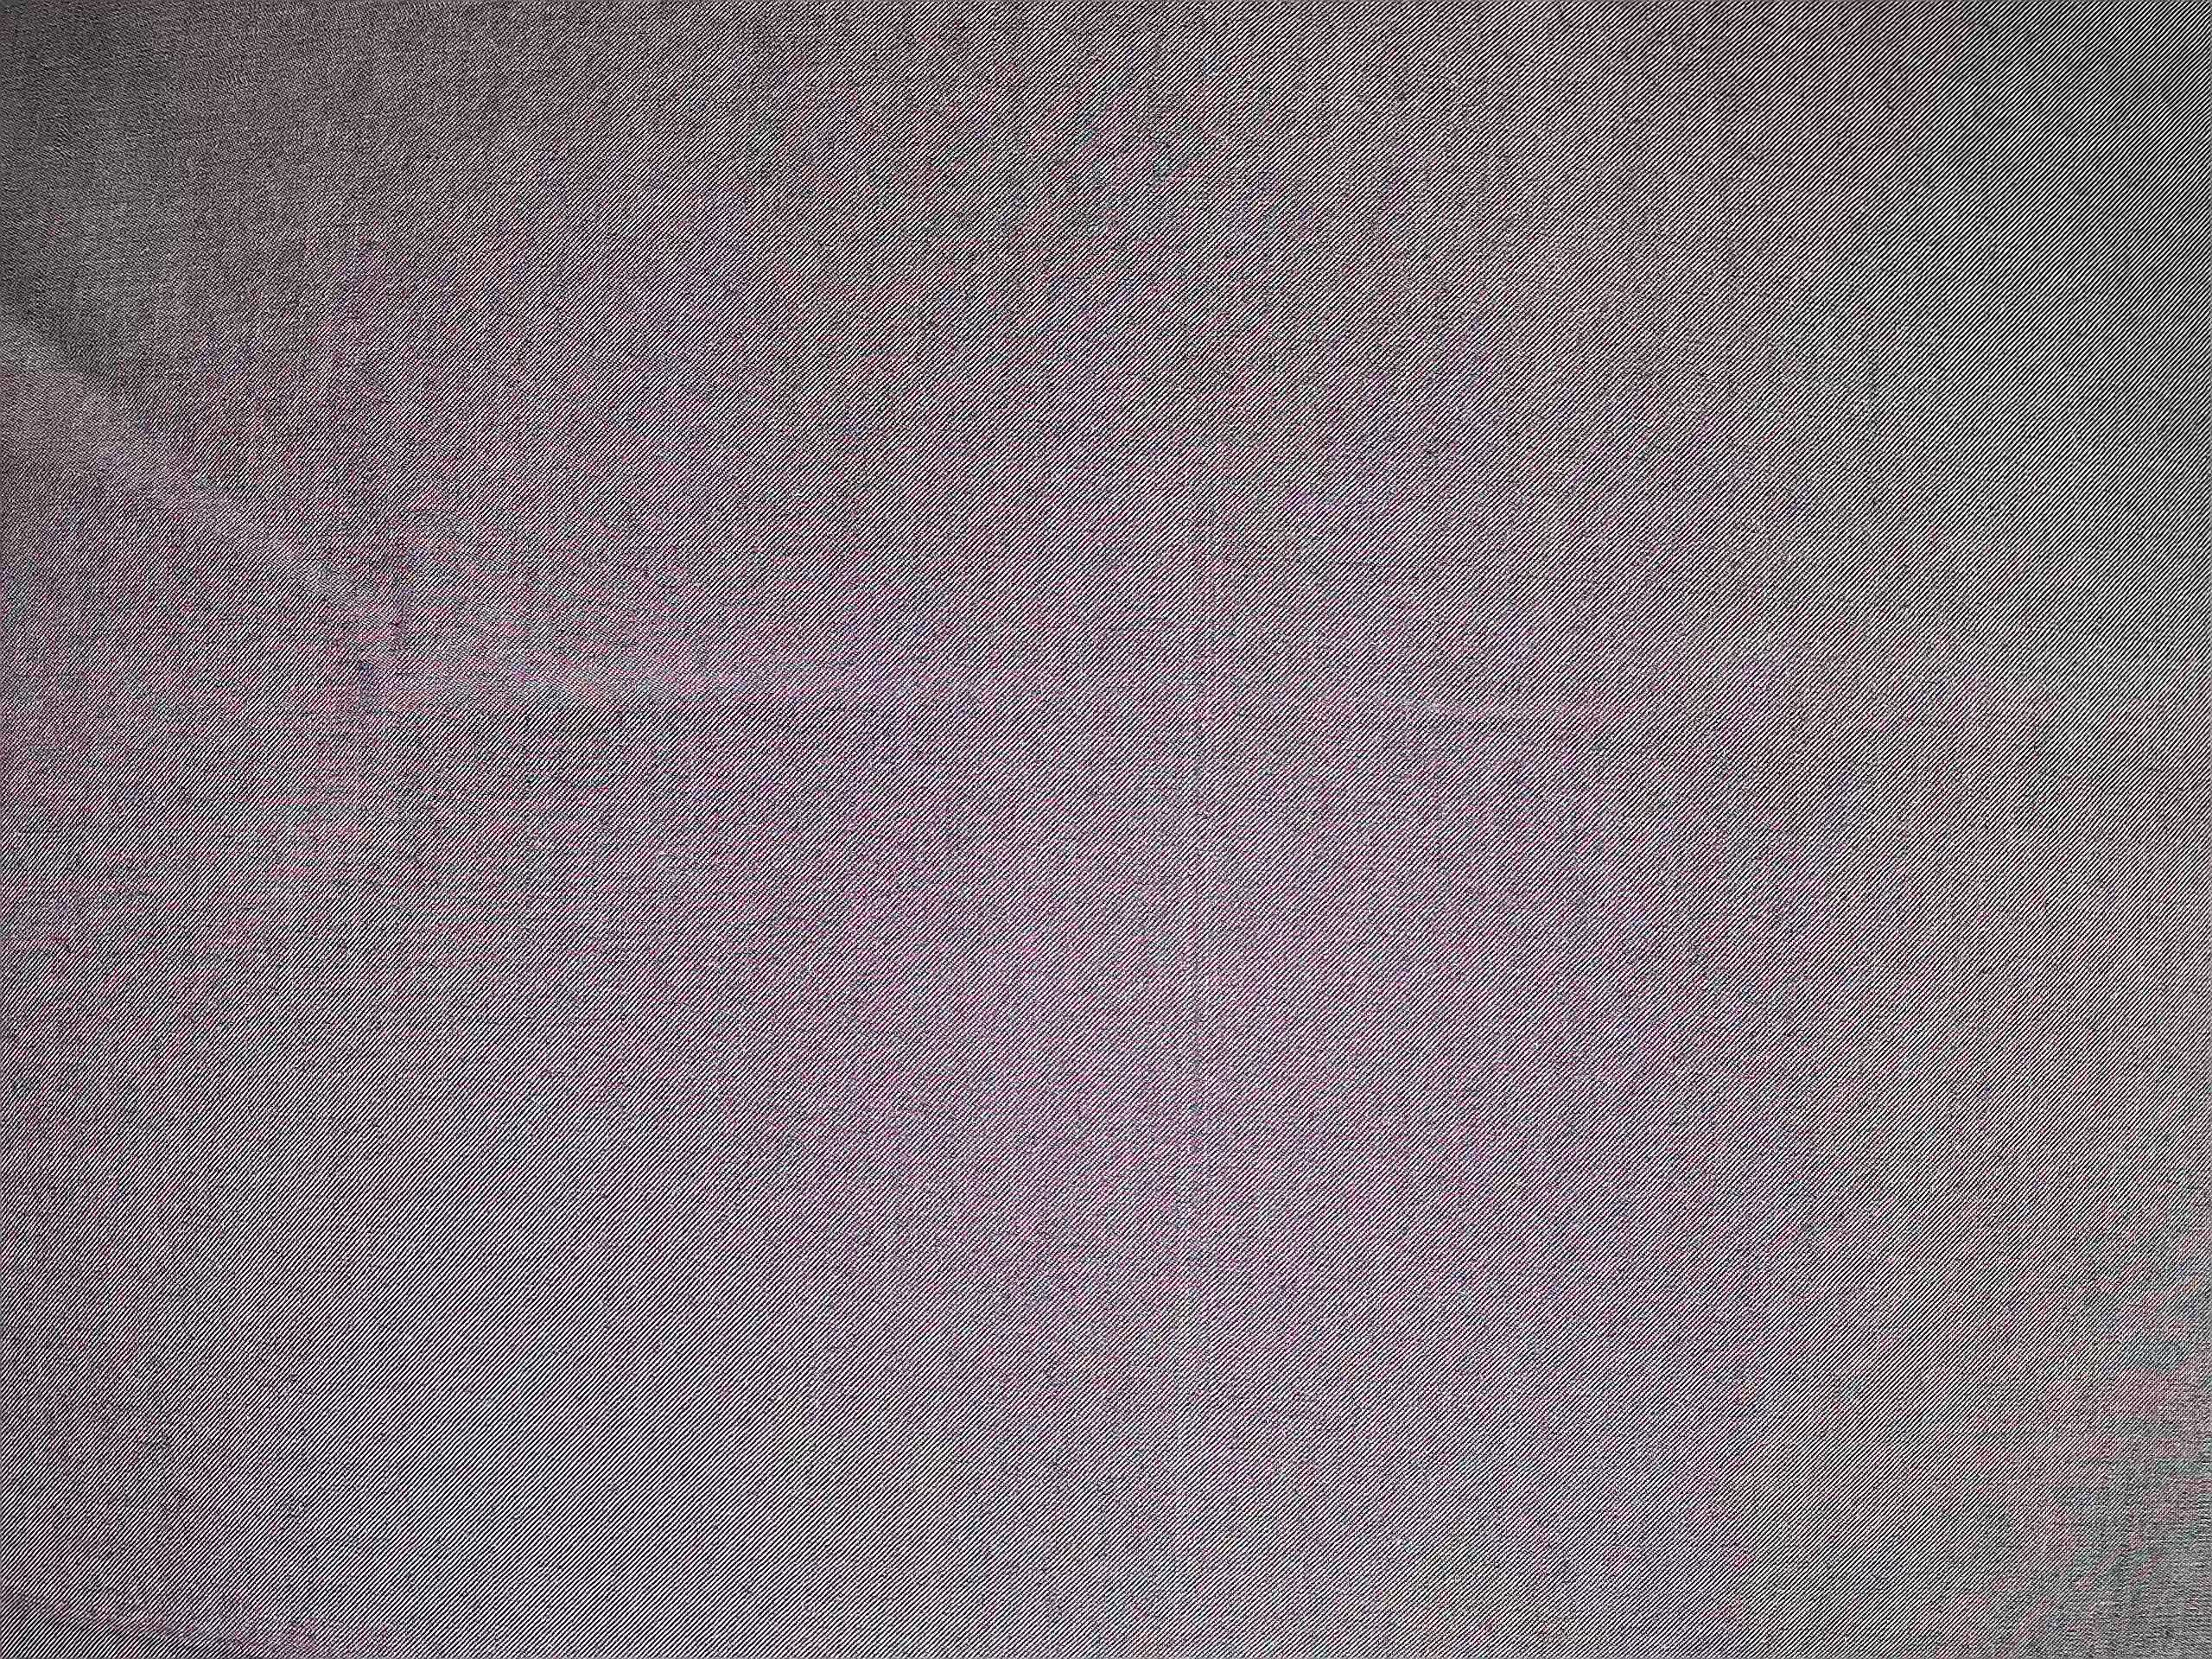hanging-warp: (1165, 469, 1233, 1427)
